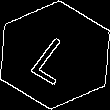L_NE: (25, 26, 85, 84)
